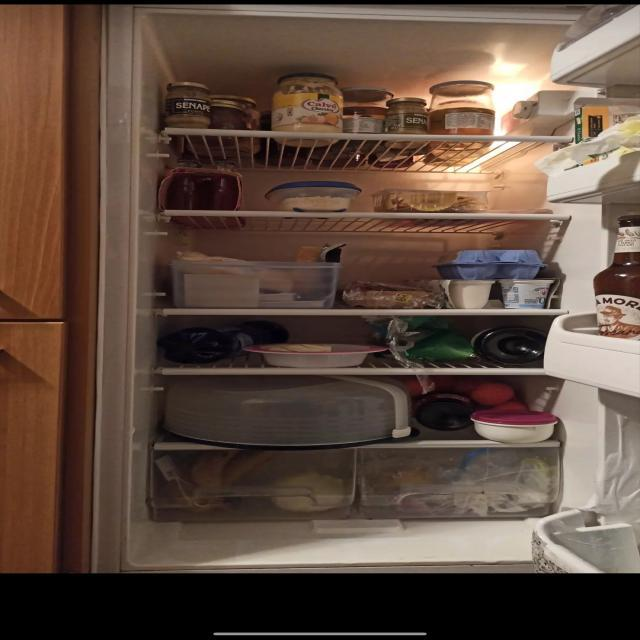cheese: (274, 194, 359, 215)
eggs: (437, 248, 557, 281)
yoghurt: (430, 280, 558, 314)
